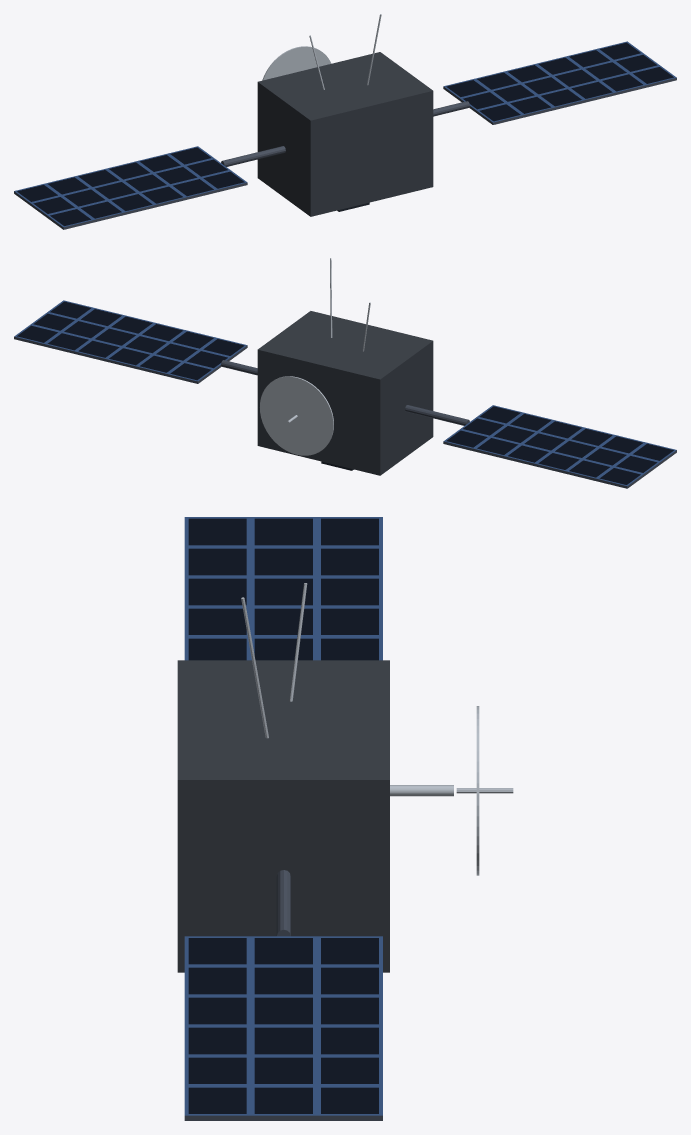
Rendered from satellite.glb.
3 views of the same model, one above another, from view 1: azimuth 30°, elevation 25°; view 2: azimuth 150°, elevation 25°; view 3: azimuth 270°, elevation 25° (orthographic). The views are drawn at different scales.
Parts seen in each view (by area): view 1: Bus, PanelL, PanelR, Dish, YokeL; view 2: Bus, PanelL, PanelR, Dish, YokeL; view 3: Bus, PanelR, PanelL, YokeR.
Part boxes in pixels (box(x1,y1,x2,y2)): Bus: box(257, 52, 433, 216); PanelL: box(14, 146, 247, 229); PanelR: box(443, 41, 676, 124); Dish: box(262, 46, 331, 80); YokeL: box(221, 146, 285, 166); Bus: box(257, 311, 433, 475); PanelL: box(443, 405, 676, 488); PanelR: box(14, 300, 247, 383); Dish: box(260, 376, 333, 455); YokeL: box(405, 405, 469, 425); Bus: box(177, 660, 389, 972); PanelR: box(184, 936, 382, 1120); PanelL: box(184, 517, 382, 660); YokeR: box(276, 870, 290, 936).
Bounding box in the file's own units: 10 × 3.01 × 2.37.
